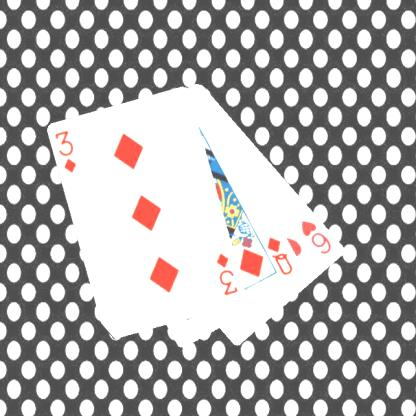3D: (214, 250, 240, 298), (52, 128, 78, 175)
6H: (298, 217, 333, 256)
QD: (264, 234, 295, 277)
